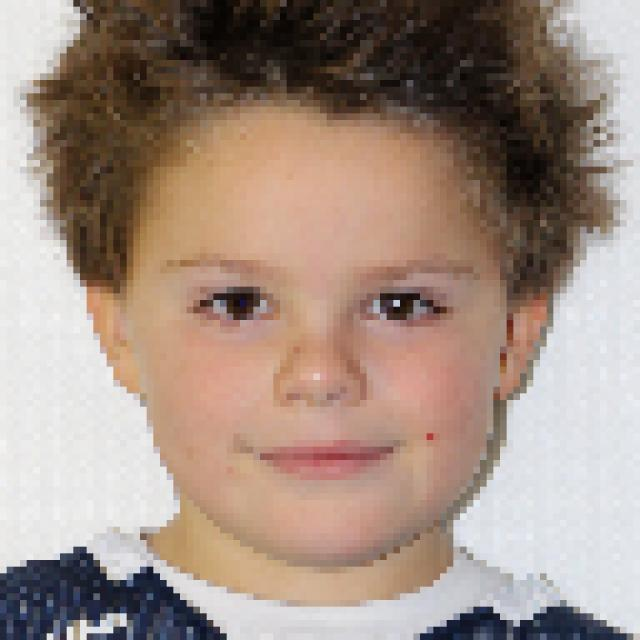happy: (86, 85, 572, 640)
